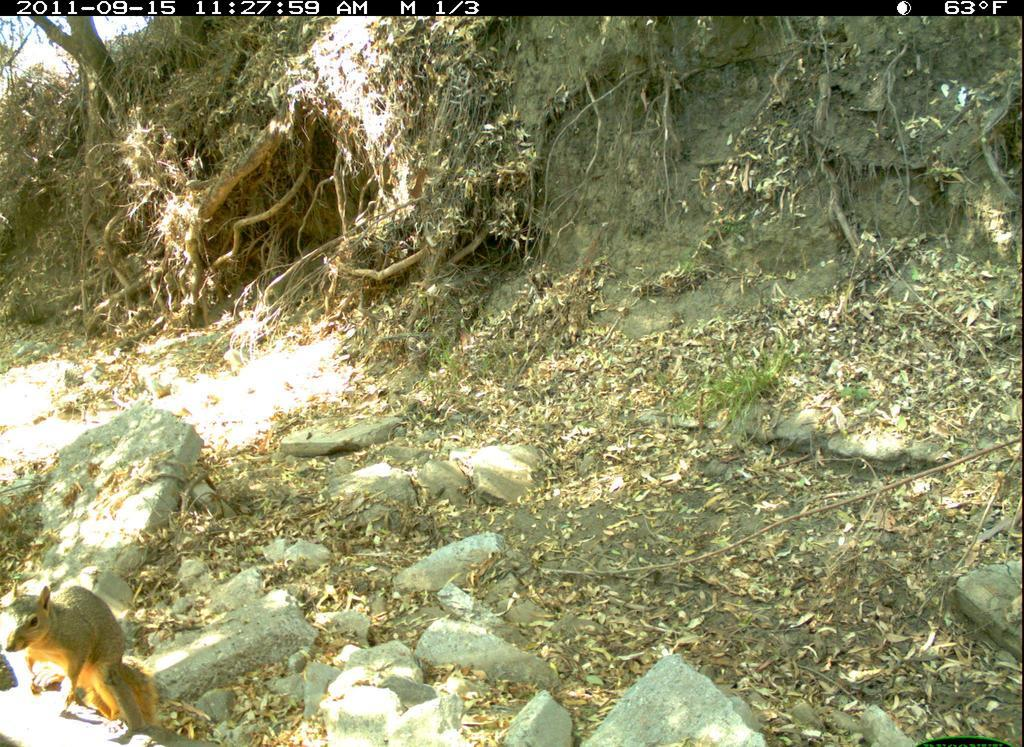squirrel: (7, 573, 167, 742)
